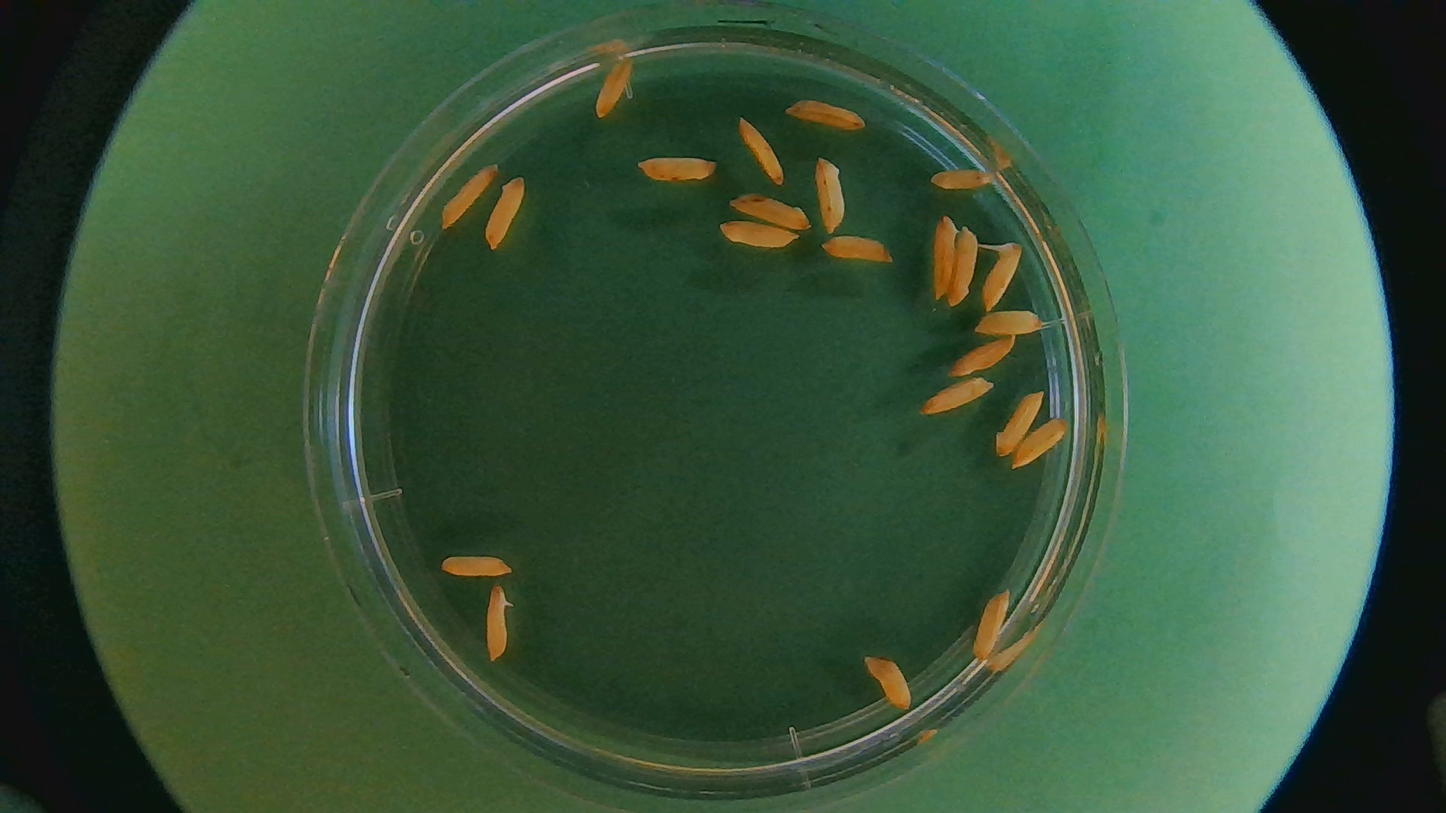no: (437, 163, 501, 231), (733, 116, 789, 184), (484, 172, 529, 254), (994, 389, 1045, 459), (920, 374, 996, 419), (861, 653, 919, 711), (732, 187, 815, 227), (1012, 413, 1069, 470), (972, 589, 1016, 662), (813, 156, 851, 233), (948, 335, 1014, 379), (595, 52, 636, 122), (782, 95, 866, 129), (820, 234, 894, 268), (639, 151, 715, 184), (929, 215, 959, 298), (721, 221, 806, 250), (969, 306, 1043, 338), (951, 226, 980, 303), (440, 553, 517, 580), (929, 165, 998, 190)
yes: (983, 245, 1026, 309), (481, 587, 515, 662)
